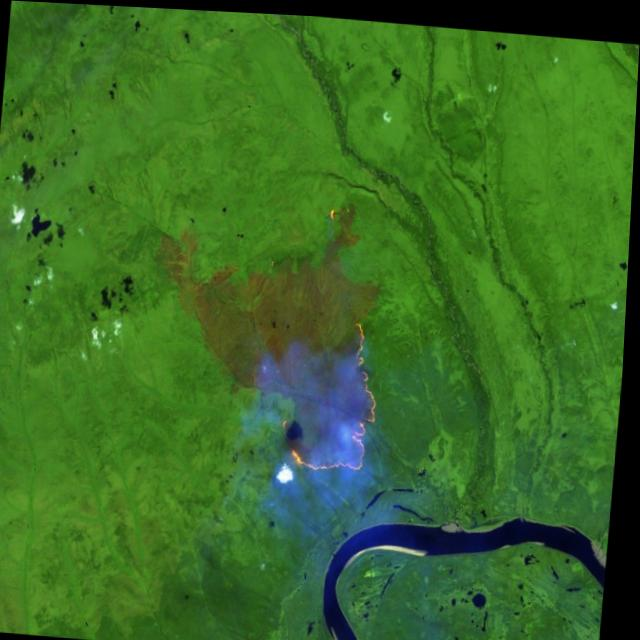fire: (275, 304, 391, 491)
